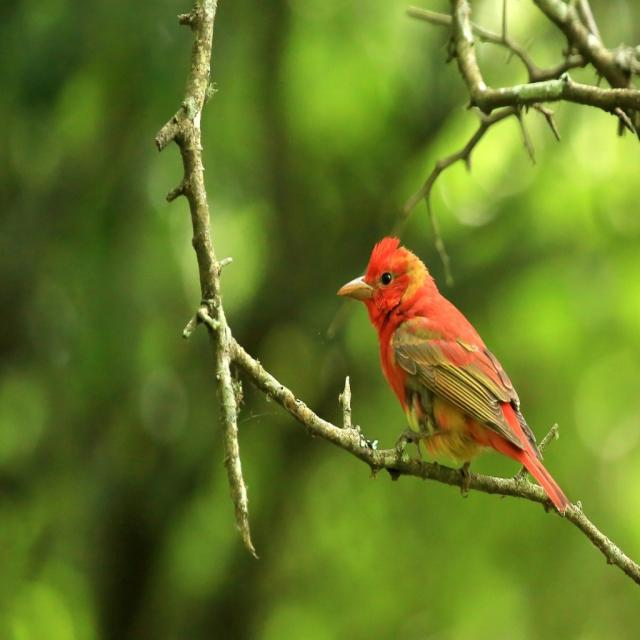bird: (335, 232, 584, 515)
